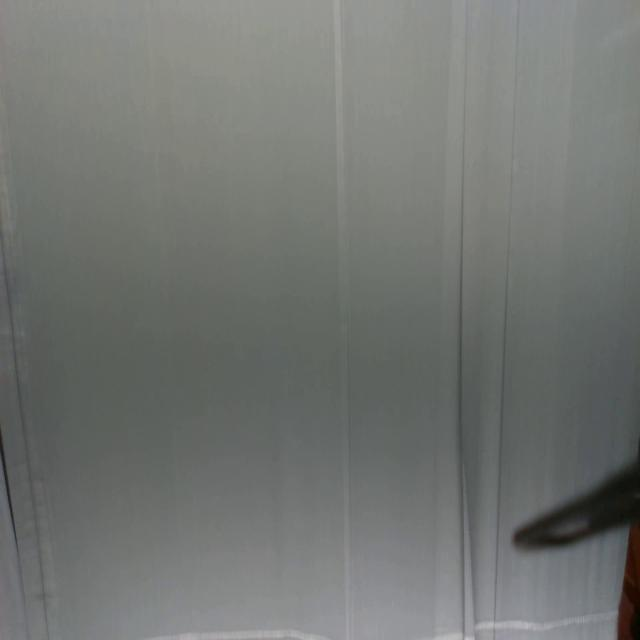crease: (0, 222, 50, 639), (492, 0, 520, 639), (333, 0, 355, 639), (454, 0, 470, 637), (0, 431, 31, 640)
